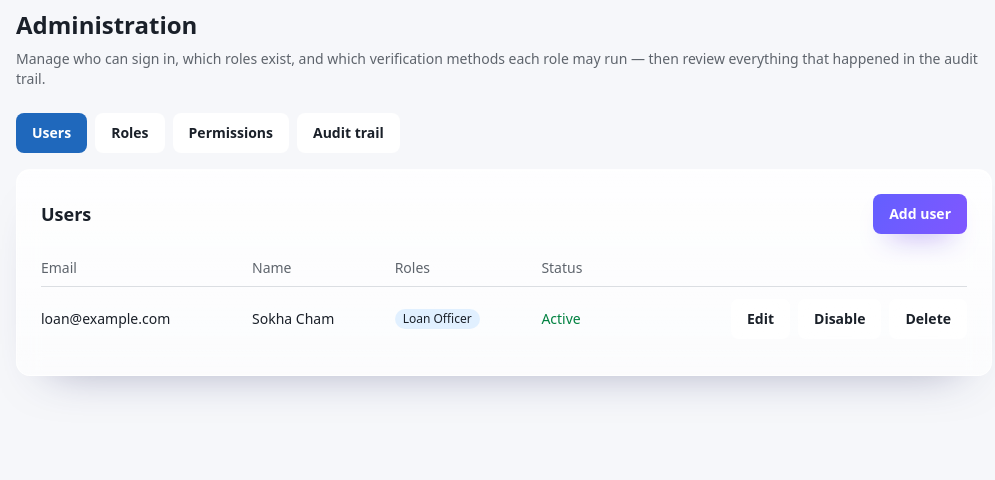
it: the permissions tab › leaves save disabled until something changes
This screenshot has width=995, height=480.
Click the tab "Permissions" at (231, 133), box [173,113,289,153]
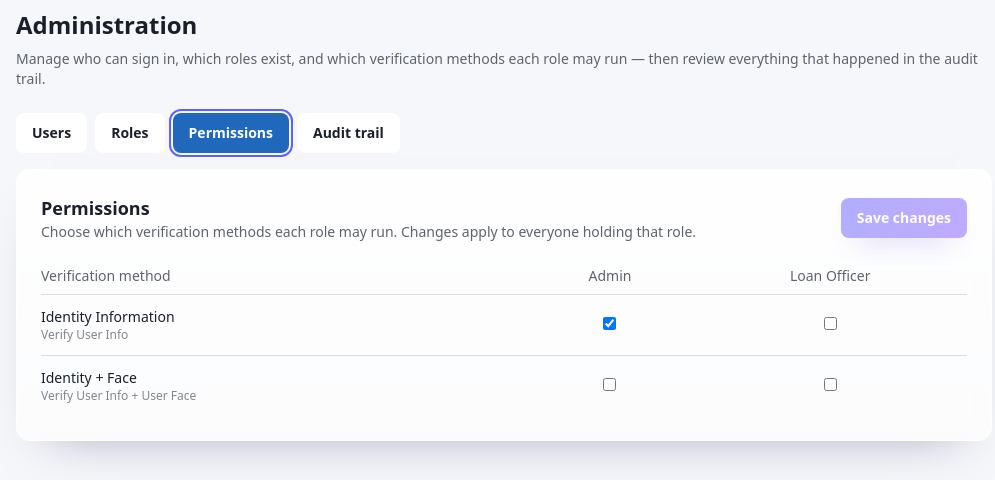
Expected: the checkbox named "Identity Information for Loan Officer" is shown, [824,317,837,330]
Expected: the button "Save changes" is disabled, [841,198,967,238]
